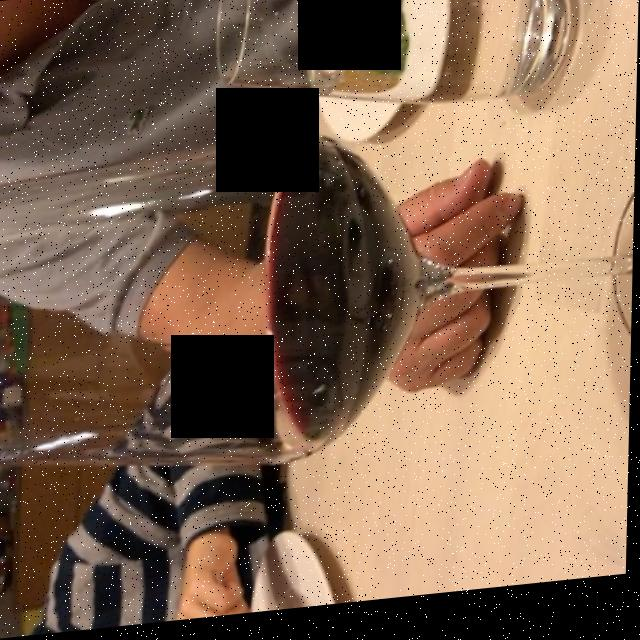wine-red: (267, 142, 418, 446)
